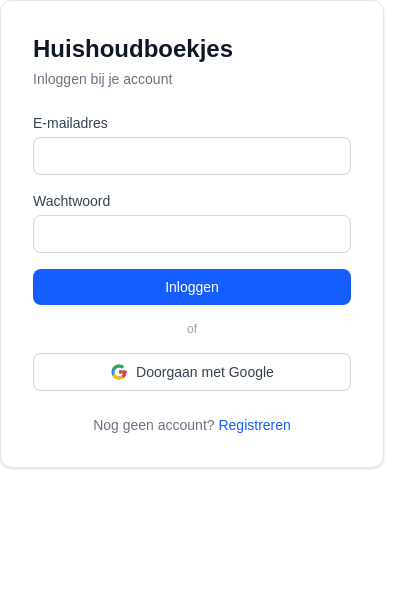
LoginForm › sign-up submission › shows a friendly error when the password is too weak
Click the button "Registreren": (255, 425) x1=218 y1=415 x2=291 y2=435
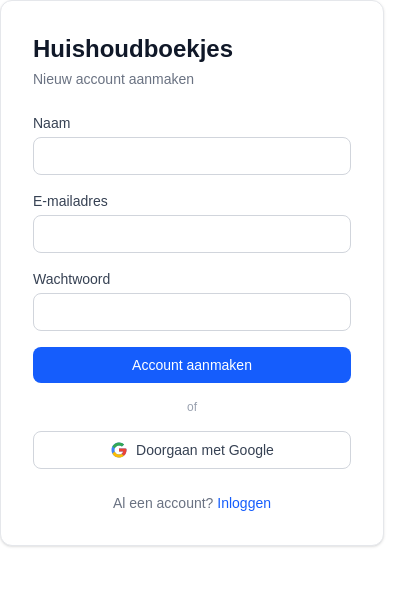
Expected: the text "Naam" is shown, x1=33 y1=115 x2=70 y2=131
In the field below "Naam": (192, 156) x1=33 y1=137 x2=351 y2=175, type "Test Naam"
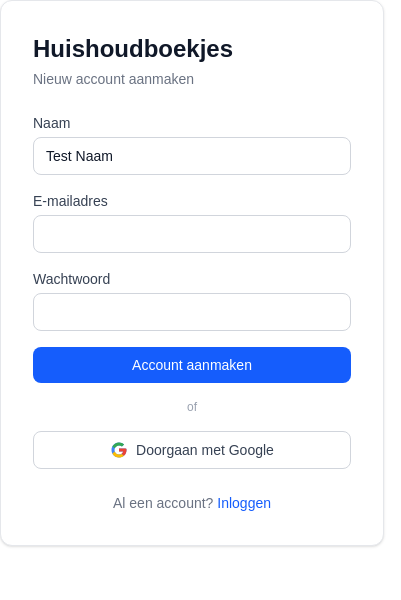
In the field below "E-mailadres": (192, 234) x1=33 y1=215 x2=351 y2=253, type "user@example.com"
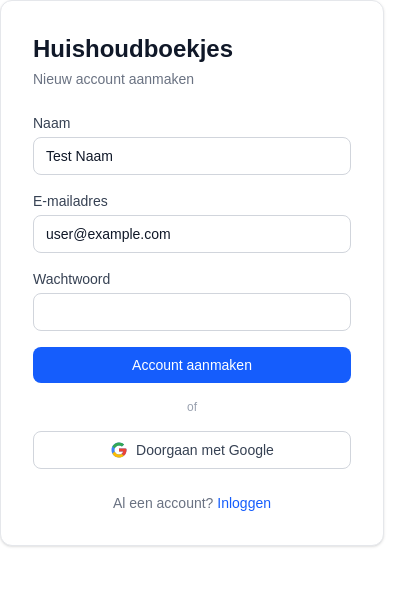
In the password field: (192, 312) x1=33 y1=293 x2=351 y2=331, type "123"
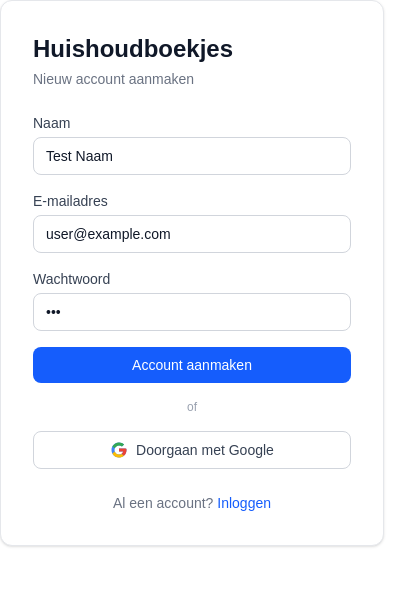
Click the button "Account aanmaken": (192, 365) x1=33 y1=347 x2=351 y2=383
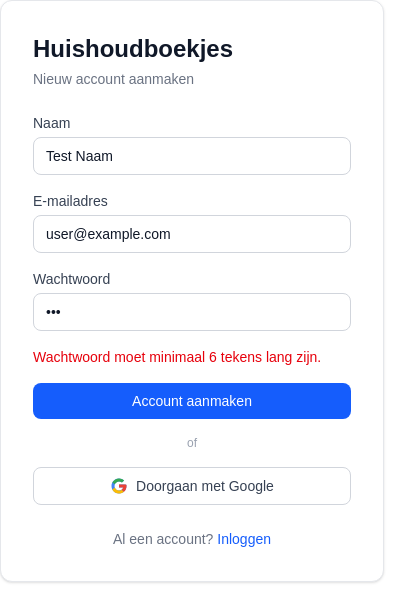
Expected: the text "Wachtwoord moet minimaal 6 tekens lang zijn." is shown, x1=33 y1=347 x2=351 y2=367
